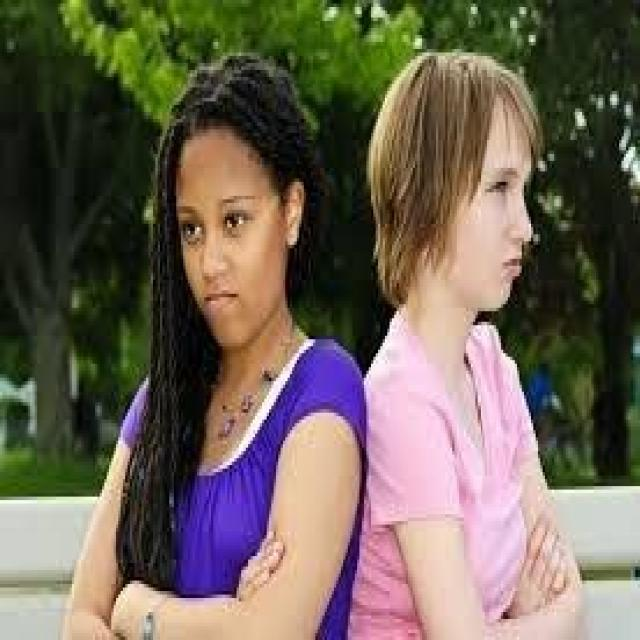person: (60, 46, 371, 636), (320, 24, 603, 636)
